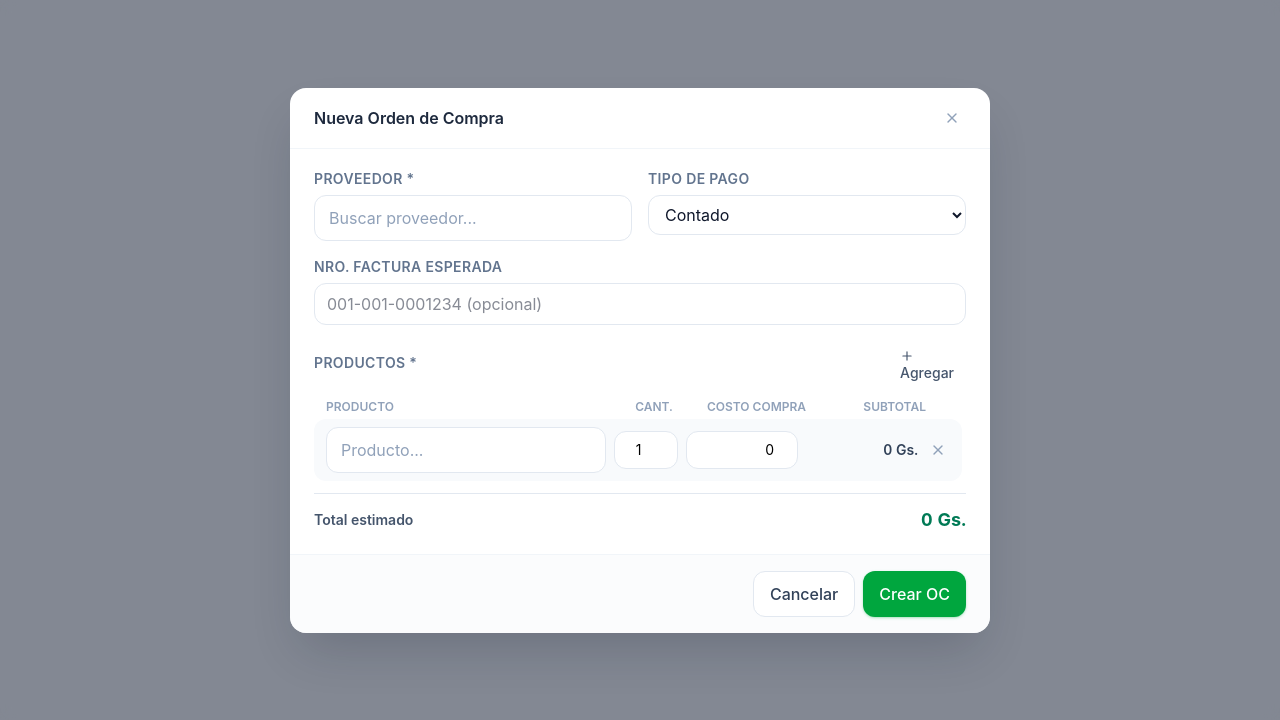
ModalOC — margen de referencia (Bloque 1) › muestra el margen de referencia (costo vs. precio de venta actual) al elegir un producto
Click the dropdown with placeholder "Buscar proveedor...".
click(473, 218)  # box [314,194,632,240]
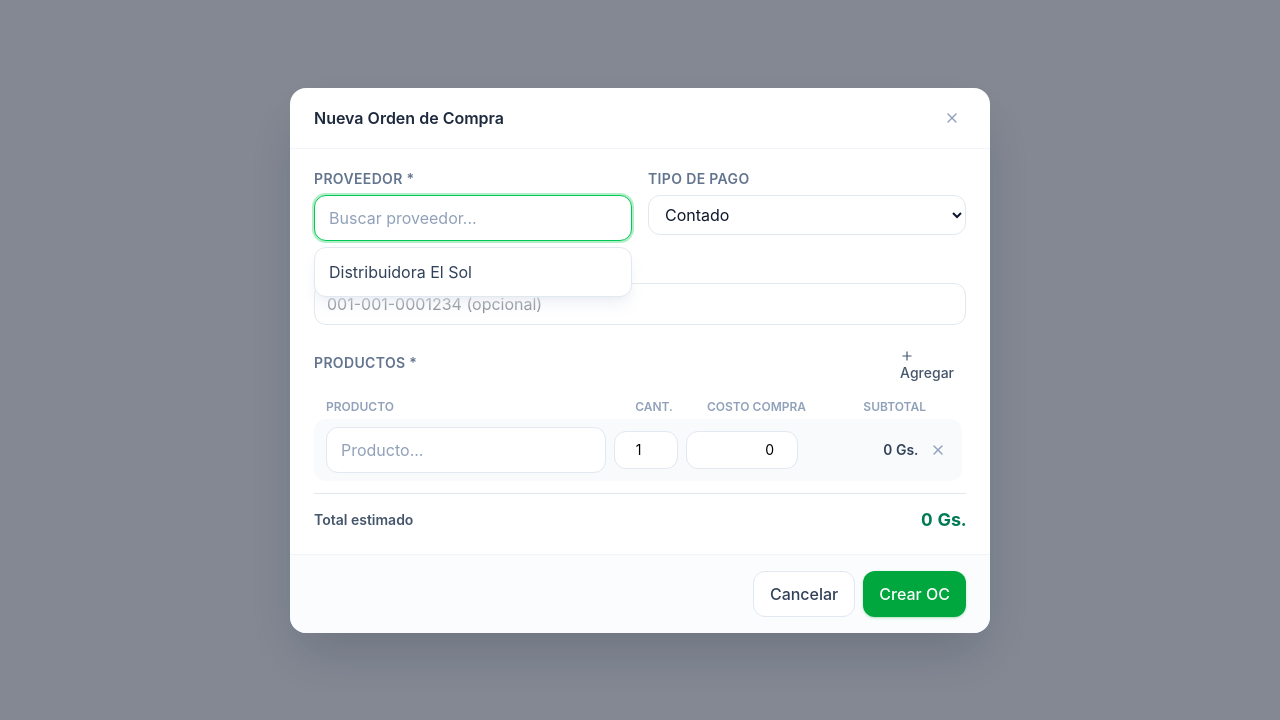
Click the option "Distribuidora El Sol".
click(400, 272)  # box [329,262,472,282]
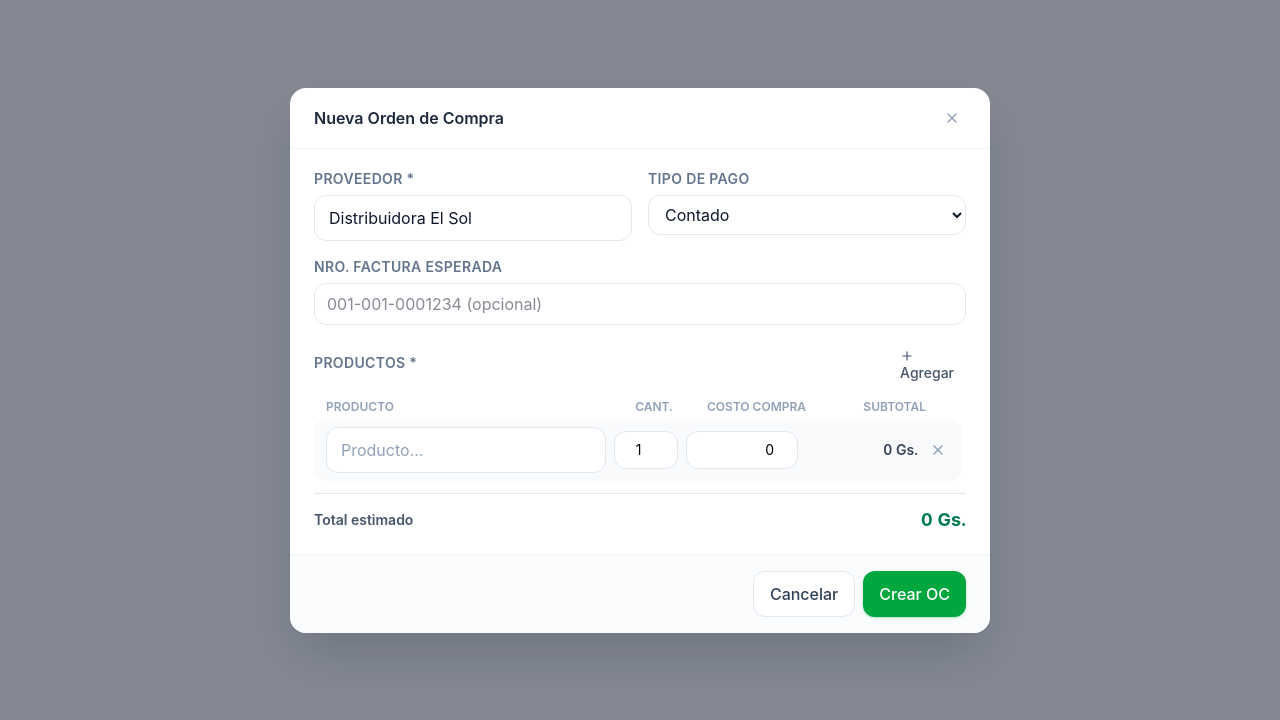
Click the dropdown with placeholder "Producto...".
click(466, 450)  # box [326,426,606,472]
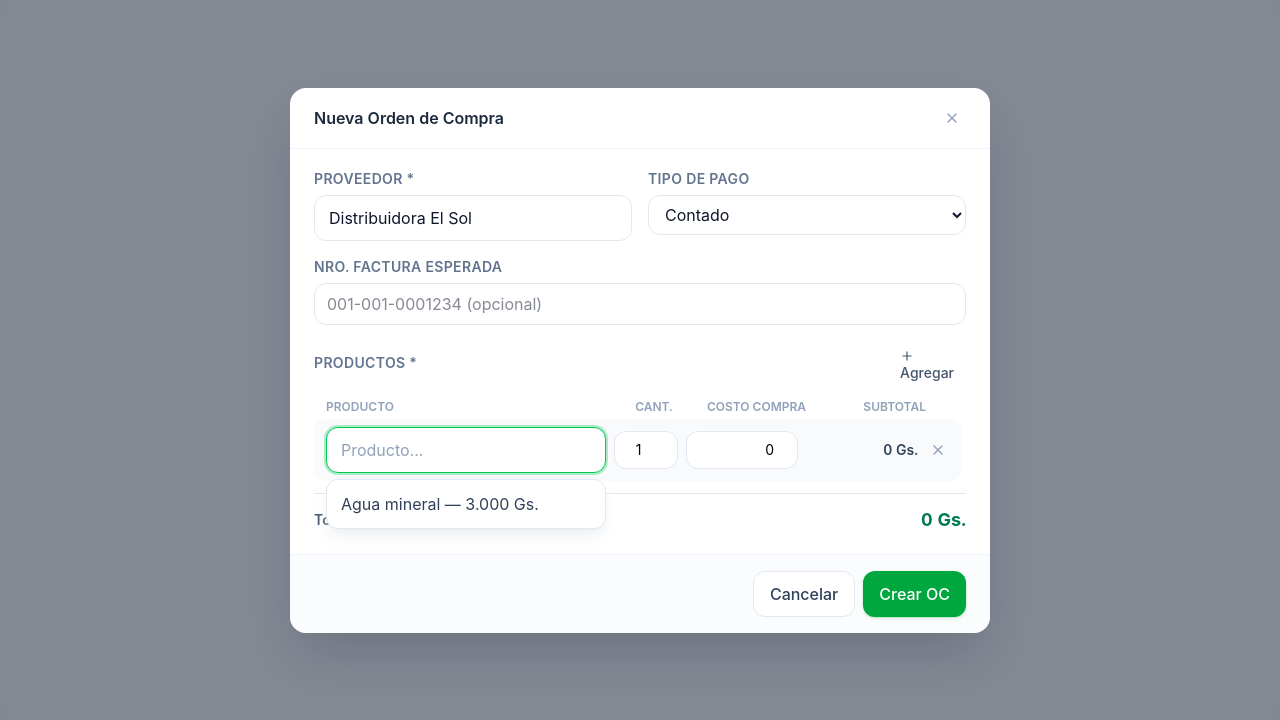
Click the option "Agua mineral — 3.000 Gs.".
click(440, 504)  # box [341,494,539,514]
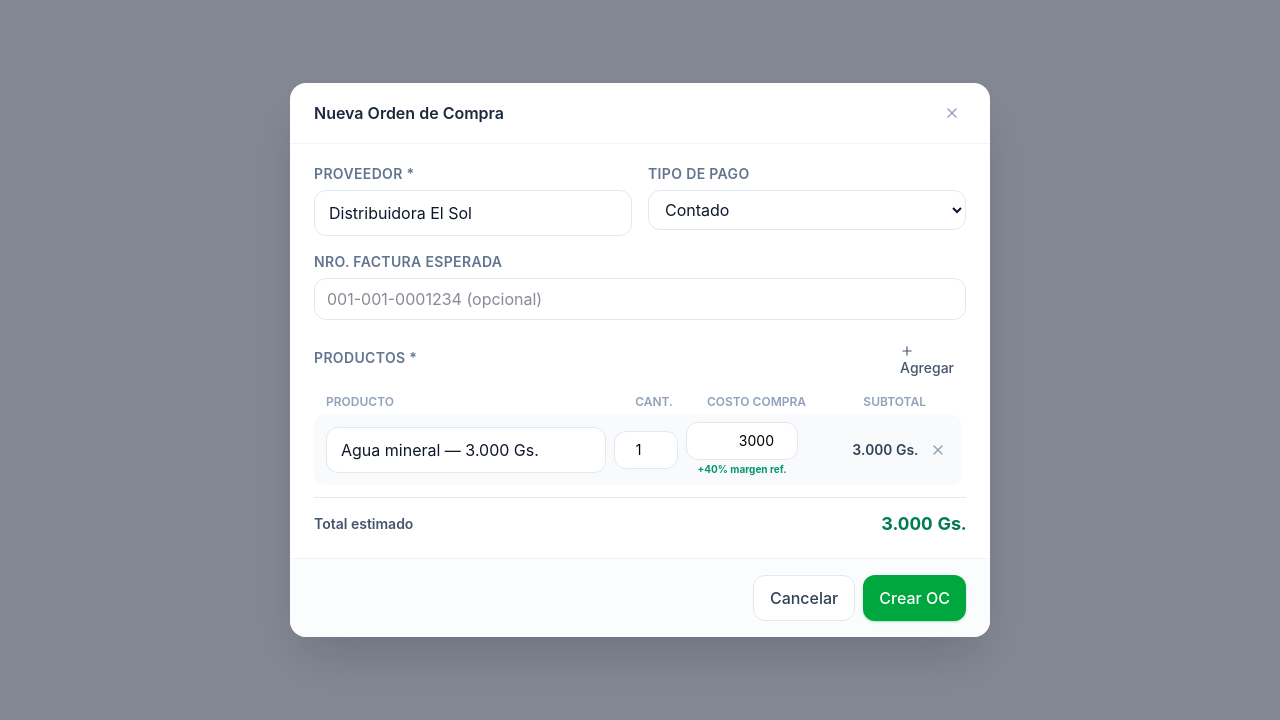
Check: the text "+40% margen ref." is shown, box [698,463,786,475]
